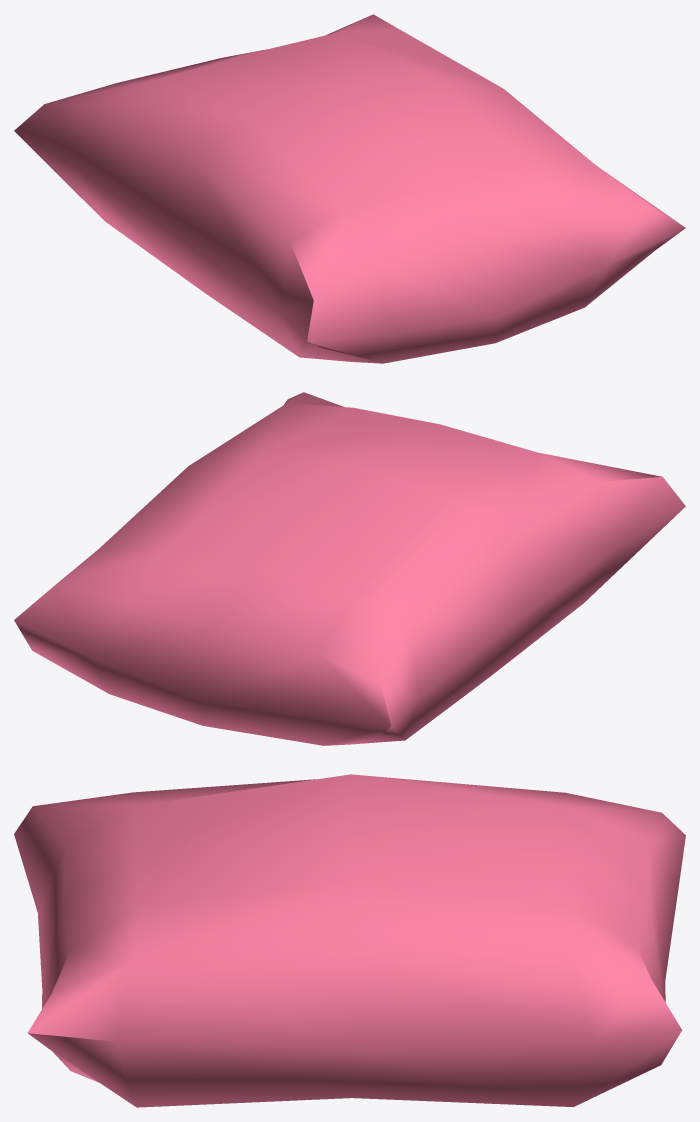
The model's file is Bed_Pillow_1.fbx.
The picture shows the model from 3 angles, top to bottom: view 1: azimuth 30°, elevation 25°; view 2: azimuth 150°, elevation 25°; view 3: azimuth 270°, elevation 25°; orthographic projection. The views are drawn at different scales.
Visible parts, largest first — view 1: Bed_Pillow_1; view 2: Bed_Pillow_1; view 3: Bed_Pillow_1.
Part boxes in pixels (left/top/right/bottom): Bed_Pillow_1: left=14, top=14, right=685, bottom=363; Bed_Pillow_1: left=14, top=392, right=685, bottom=745; Bed_Pillow_1: left=14, top=774, right=685, bottom=1107.
Bounding box in the file's own units: 50.3 × 25.4 × 65.6.
